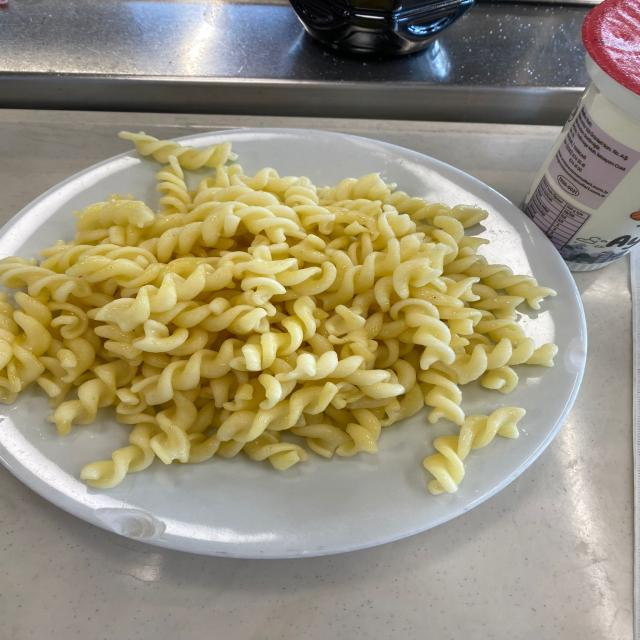ana_yemek: (1, 128, 560, 498)
